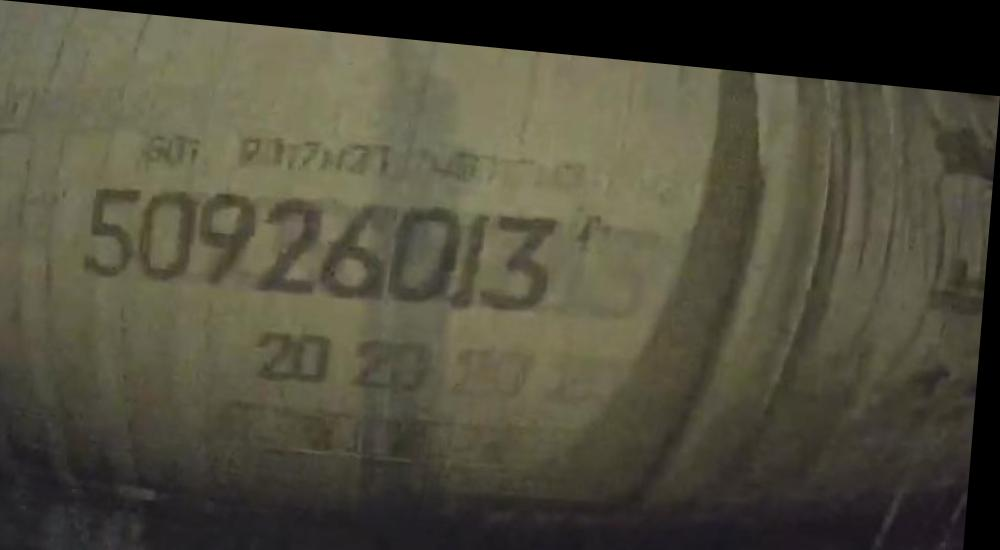Wagon-number: (76, 165, 569, 317)
